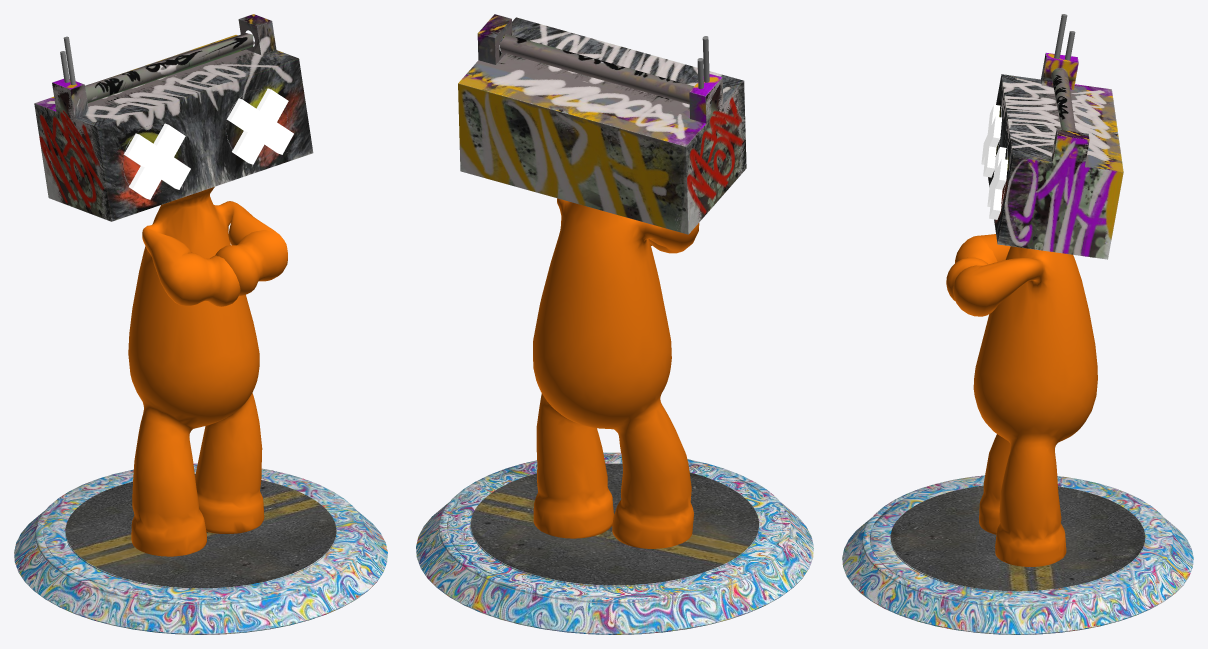
The picture shows the model from 3 angles, left to right: view 1: azimuth 30°, elevation 25°; view 2: azimuth 150°, elevation 25°; view 3: azimuth 270°, elevation 25°; orthographic projection. The views are drawn at different scales.
Bounding box in the file's own units: 1.45 × 2.25 × 1.45.
Materials: 6 (3 with a texture image).
